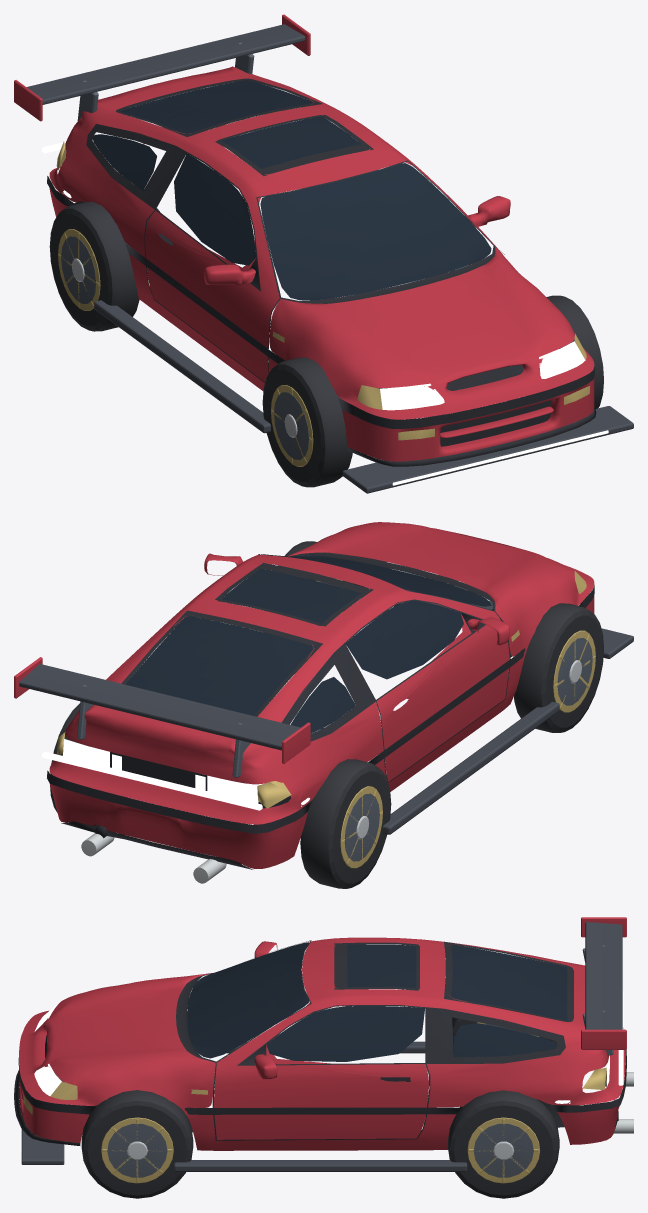
The model's file is sports.glb.
The picture shows the model from 3 angles, top to bottom: view 1: azimuth 30°, elevation 25°; view 2: azimuth 150°, elevation 25°; view 3: azimuth 270°, elevation 25°; orthographic projection. The views are drawn at different scales.
Parts seen in each view (by area): view 1: Body, Wheel_FL, Wheel_RL, Signal, Wheel_FR; view 2: Body, Wheel_RL, Wheel_FL, Signal; view 3: Body, Wheel_FR, Wheel_RR, Signal.
Boxes of the visible parts, <box> form: Body: <box>14,14,633,493</box>; Wheel_FL: <box>262,357,352,487</box>; Wheel_RL: <box>49,201,139,331</box>; Signal: <box>42,121,608,485</box>; Wheel_FR: <box>546,295,603,408</box>; Body: <box>14,522,633,883</box>; Wheel_RL: <box>300,759,391,888</box>; Wheel_FL: <box>514,603,603,732</box>; Signal: <box>42,739,309,810</box>; Body: <box>14,917,633,1171</box>; Wheel_FR: <box>81,1090,193,1198</box>; Wheel_RR: <box>448,1090,559,1198</box>; Signal: <box>20,991,623,1152</box>.
Size of the model in its own units: 2.1 by 1.37 by 4.33.
